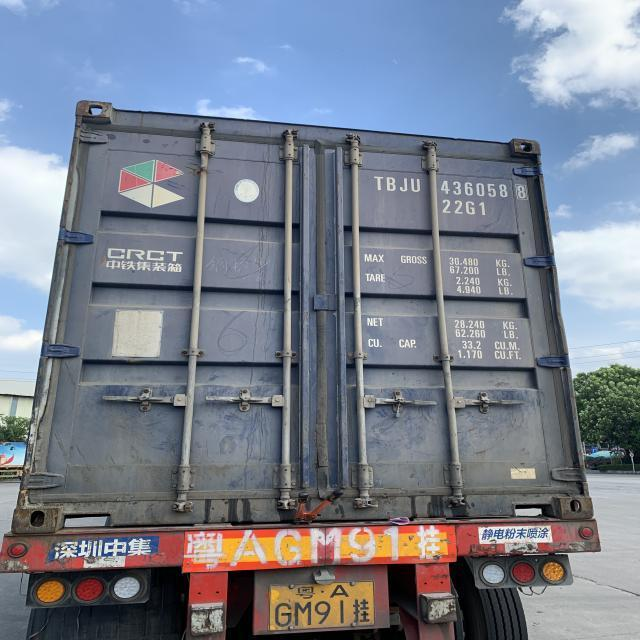ISO: (445, 201, 487, 216)
container_number: (375, 179, 526, 199)
